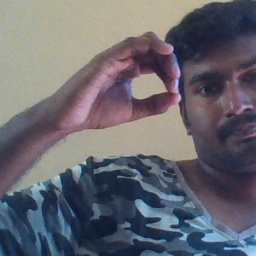O: (54, 29, 185, 132)
